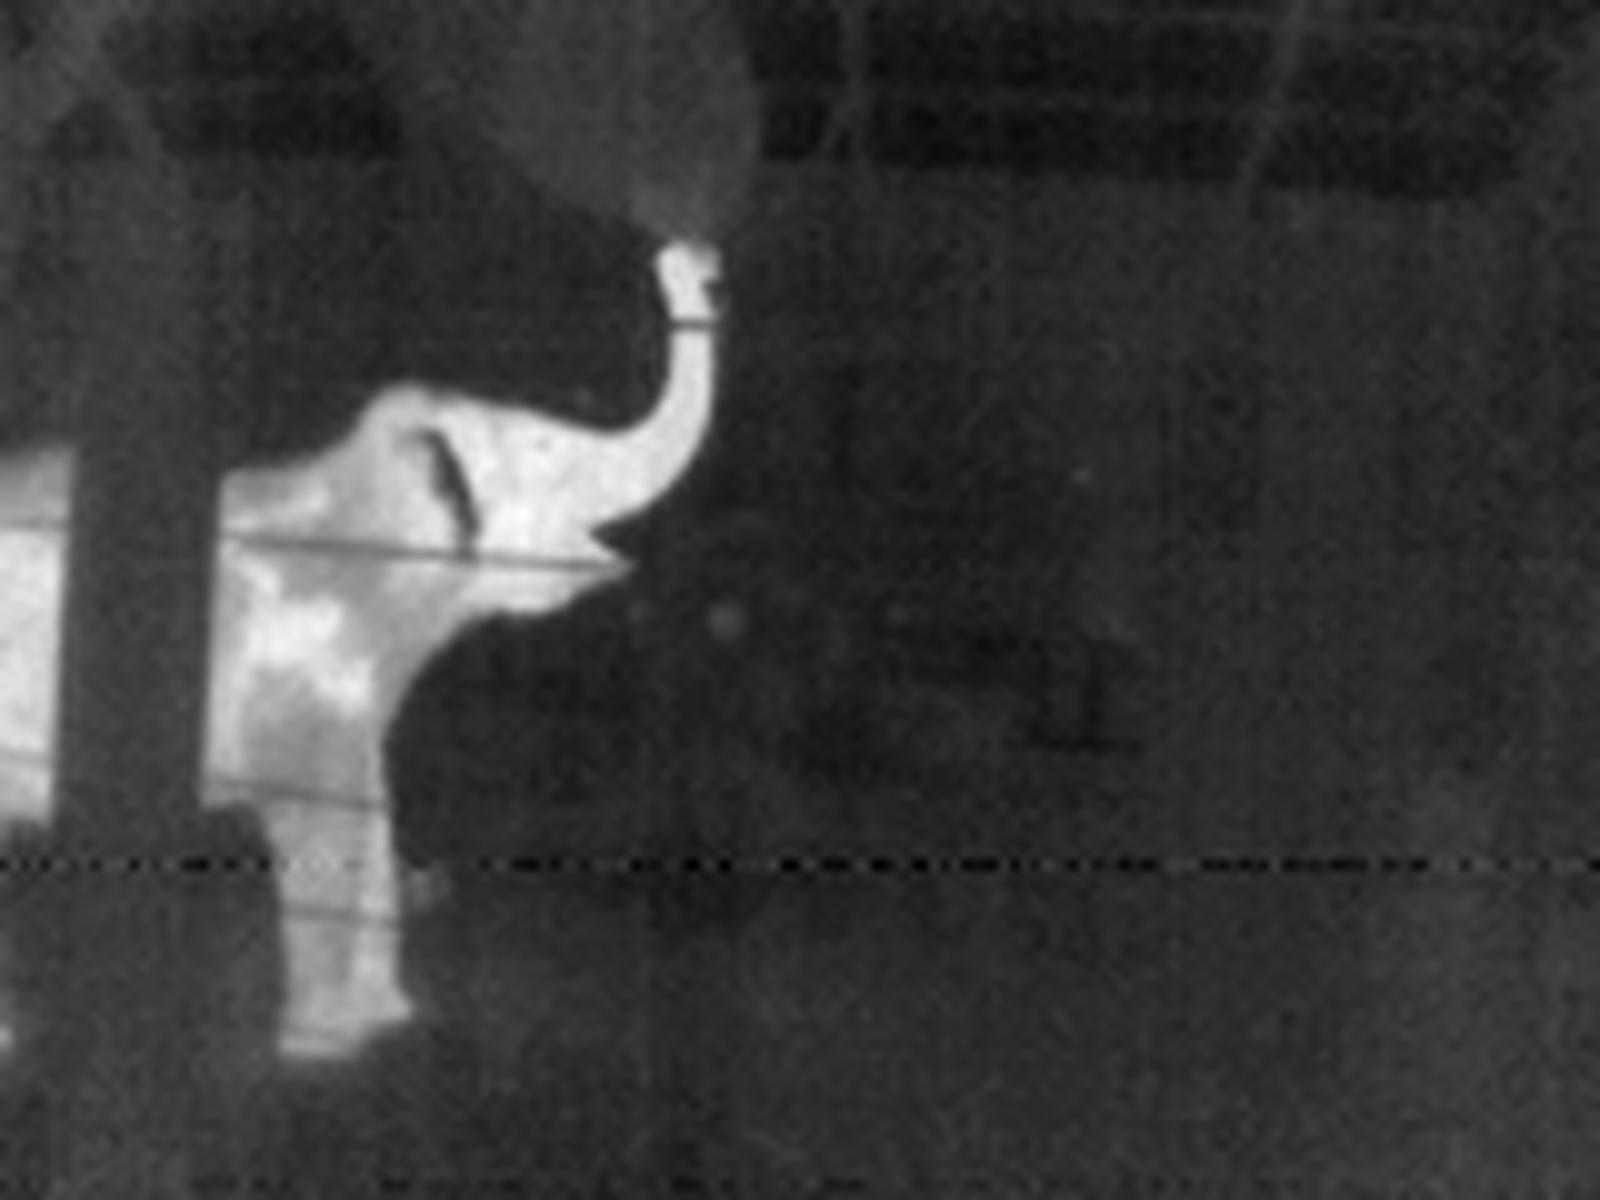elephant: (1, 227, 724, 1054)
